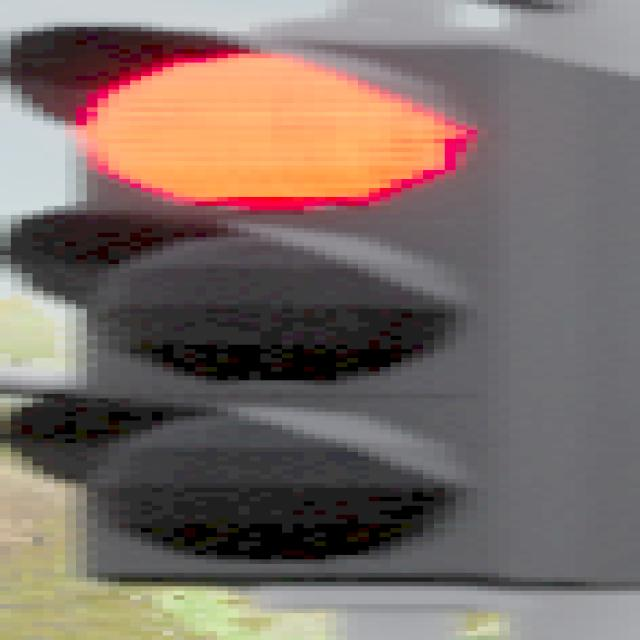red_light: (0, 28, 639, 587)
